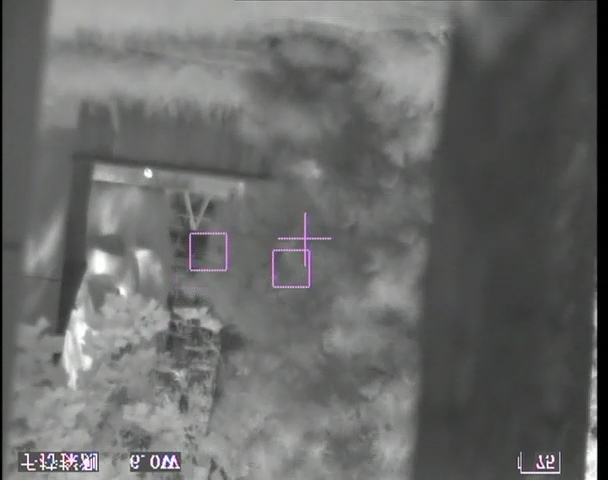my: (142, 166, 153, 179)
